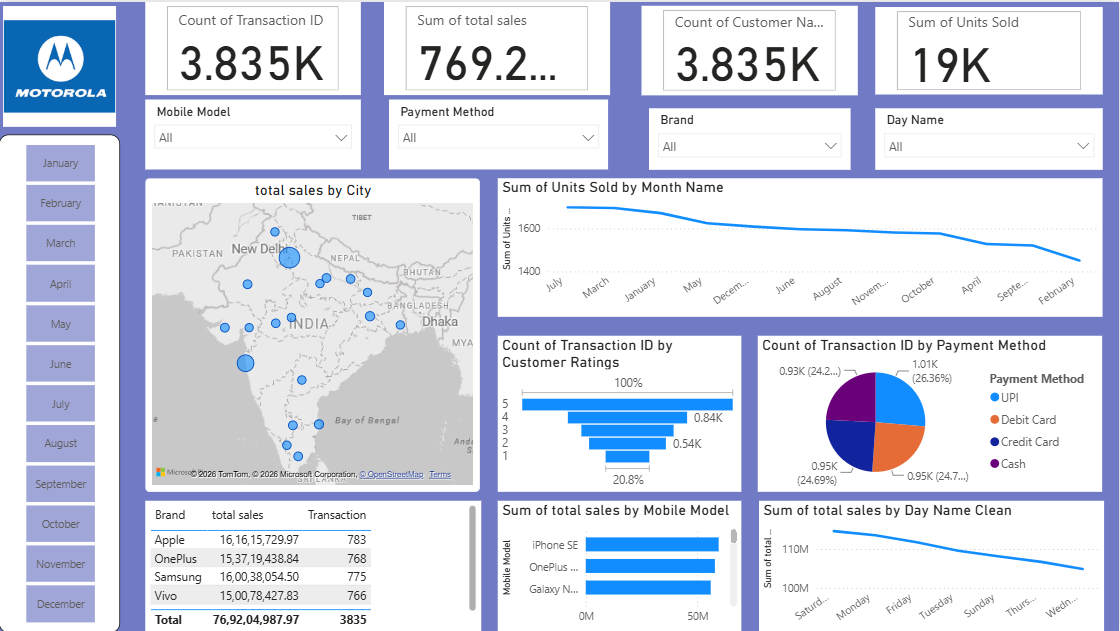

This screenshot's page, from the dashboard's own definition file:
{"tool":"powerbi","page":{"name":"Page 2","canvas":[1280,720],"ordinal":0},"visuals":[{"type":"cardVisual","fields":{"Data":["Sum(Sheet1.total sales)"]},"box":[440,0,258.8,106.2],"z":0},{"type":"cardVisual","fields":{"Data":["Sum(Sheet1.Units Sold)"]},"box":[1001.2,6.2,260,100],"z":1000},{"type":"cardVisual","fields":{"Data":["CountNonNull(Sheet1.Transaction ID)"]},"box":[167.5,0,246.2,106.2],"z":2000},{"type":"cardVisual","fields":{"Data":["CountNonNull(Sheet1.Customer Name)"]},"box":[733.8,3.8,247.5,102.5],"z":3000},{"type":"slicer","fields":{"Values":["Sheet1.Month Name"]},"box":[0,150.8,138.7,569.4],"z":4000},{"type":"slicer","fields":{"Values":["Sheet1.Mobile Model"]},"box":[167.5,111.2,246.2,80],"z":5000},{"type":"slicer","fields":{"Values":["Sheet1.Payment Method"]},"box":[445,111.2,250,80],"z":6000},{"type":"slicer","fields":{"Values":["Sheet1.Brand"]},"box":[742.5,121.2,230,70],"z":7000},{"type":"slicer","fields":{"Values":["Sheet1.Day Name"]},"box":[1001.2,121.2,260,70],"z":8000},{"type":"map","title":"total sales by City","fields":{"Category":["Sheet1.City"],"Size":["Sum(Sheet1.total sales)"]},"box":[167.5,201.2,382.5,358.8],"z":9000},{"type":"lineChart","fields":{"Category":["Sheet1.Month Name"],"Y":["Sum(Sheet1.Units Sold)"]},"box":[570,201.2,691.2,158.8],"z":10000},{"type":"funnel","fields":{"Category":["Sheet1.Customer Ratings"],"Y":["CountNonNull(Sheet1.Transaction ID)"]},"box":[570,381.2,278.8,178.8],"z":11000},{"type":"pieChart","fields":{"Category":["Sheet1.Payment Method"],"Y":["CountNonNull(Sheet1.Transaction ID)"]},"box":[867.5,381.2,393.8,178.8],"z":12000},{"type":"barChart","fields":{"Category":["Sheet1.Mobile Model"],"Y":["Sum(Sheet1.total sales)"]},"box":[570,570,278.8,150],"z":13000},{"type":"lineChart","fields":{"Y":["Sum(Sheet1.total sales)"],"Category":["Sheet1.Day Name Clean"]},"box":[868,570,394,150],"z":14000},{"type":"tableEx","fields":{"Values":["Sheet1.Brand","Sum(Sheet1.total sales)","CountNonNull(Sheet1.Transaction ID)"]},"box":[167.5,570,383.8,150],"z":15000},{"type":"actionButton","box":[0,0,100.1,39.8],"z":16000},{"type":"image","box":[0,0,138.8,147.5],"z":17000}]}

Visuals, with their boxes in screenshot pixels (x1, y1, x2, y2), scaled from the page's 1280x720 canvas onto the 1120x631 screenshot:
cardVisual - Sum(Sheet1.total sales): region(385, 0, 611, 93)
cardVisual - Sum(Sheet1.Units Sold): region(876, 5, 1104, 93)
cardVisual - CountNonNull(Sheet1.Transaction ID): region(147, 0, 362, 93)
cardVisual - CountNonNull(Sheet1.Customer Name): region(642, 3, 859, 93)
slicer - Sheet1.Month Name: region(0, 132, 121, 630)
slicer - Sheet1.Mobile Model: region(147, 97, 362, 168)
slicer - Sheet1.Payment Method: region(389, 97, 608, 168)
slicer - Sheet1.Brand: region(650, 106, 851, 168)
slicer - Sheet1.Day Name: region(876, 106, 1104, 168)
"total sales by City" map: region(147, 176, 481, 491)
lineChart - Sheet1.Month Name x Sum(Sheet1.Units Sold): region(499, 176, 1104, 316)
funnel - Sheet1.Customer Ratings x CountNonNull(Sheet1.Transaction ID): region(499, 334, 743, 491)
pieChart - Sheet1.Payment Method x CountNonNull(Sheet1.Transaction ID): region(759, 334, 1104, 491)
barChart - Sheet1.Mobile Model x Sum(Sheet1.total sales): region(499, 500, 743, 630)
lineChart - Sum(Sheet1.total sales) x Sheet1.Day Name Clean: region(760, 500, 1104, 630)
tableEx - Sheet1.Brand x Sum(Sheet1.total sales): region(147, 500, 482, 630)
actionButton: region(0, 0, 88, 35)
image: region(0, 0, 121, 129)
